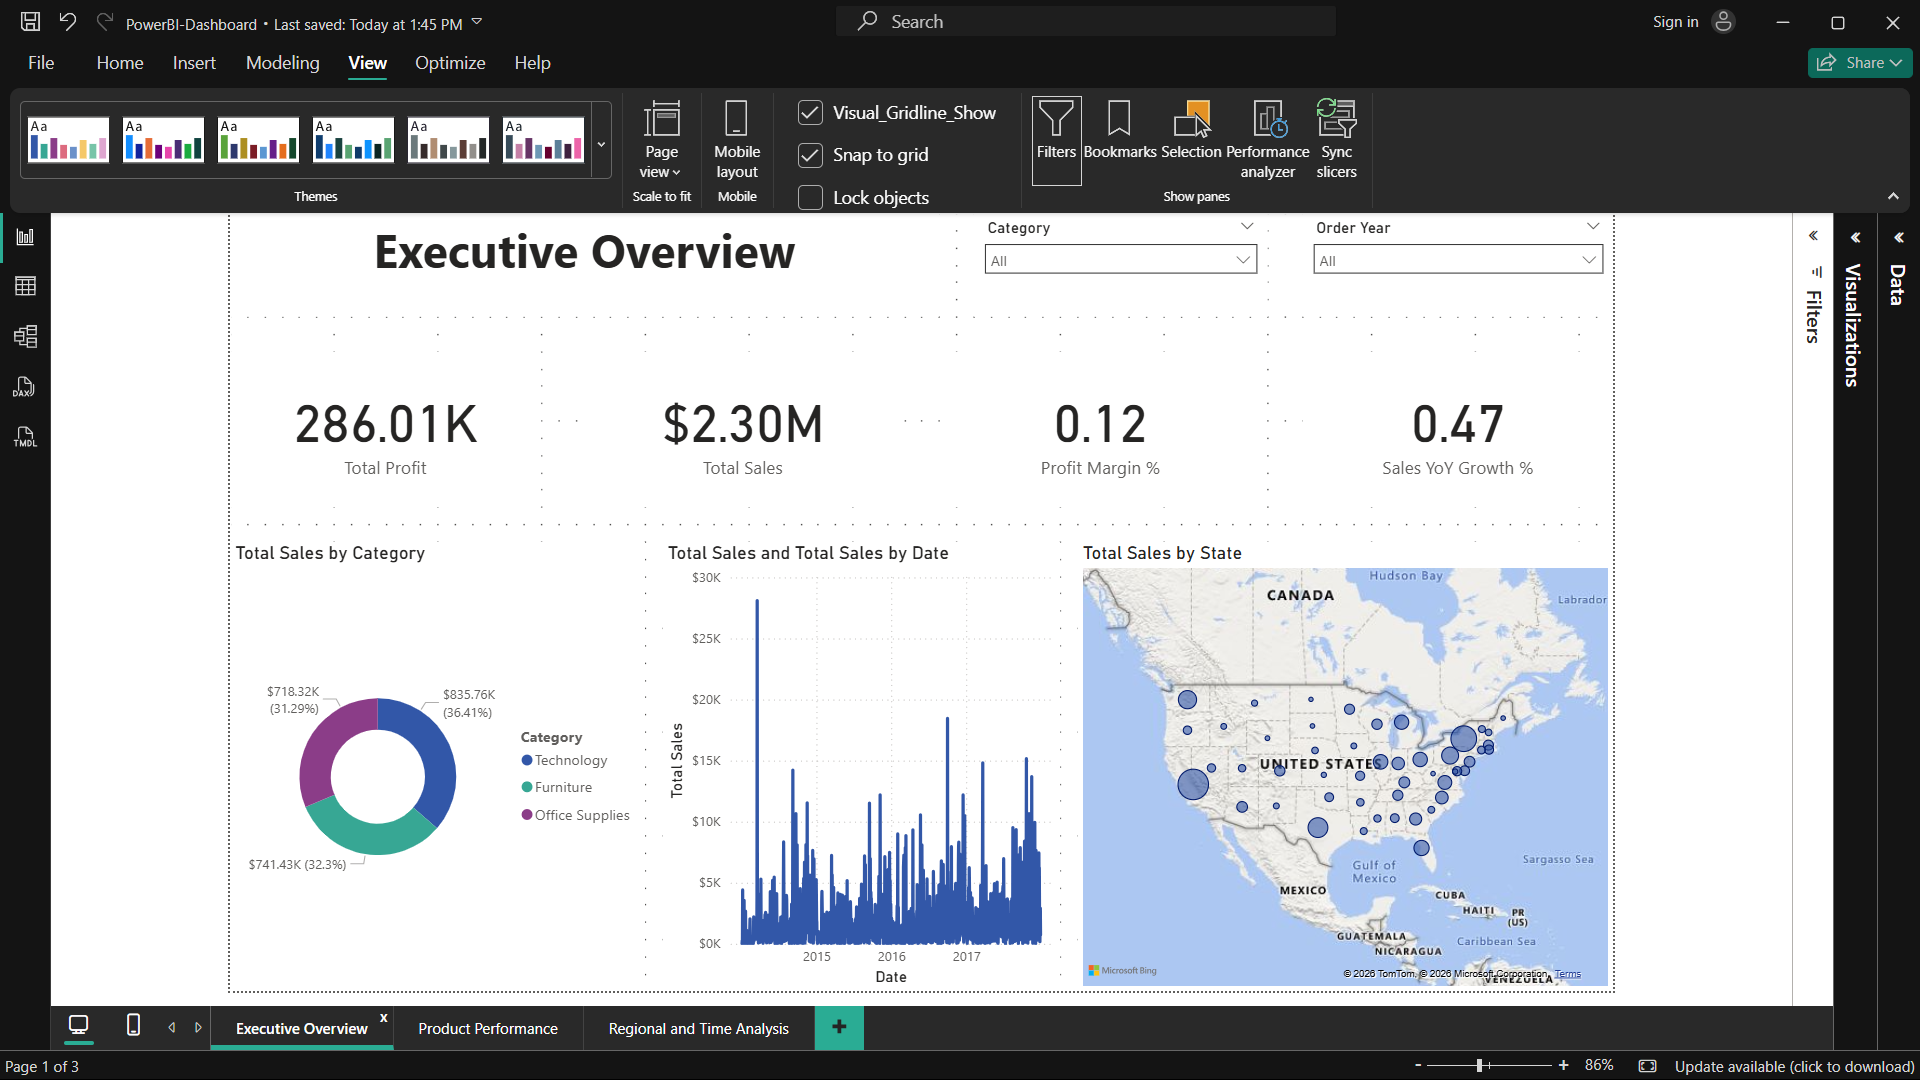

The dashboard page shown, as its layout file describes it:
{"tool":"powerbi","page":{"name":"Executive Overview","canvas":[1280,720],"ordinal":0},"visuals":[{"type":"lineChart","fields":{"Category":["DateTable.Date"],"Y":["DateTable.Total Sales"]},"box":[400,304,368,416],"z":0},{"type":"card","fields":{"Values":["DateTable.Total Profit"]},"box":[0,128,288,144],"z":1000},{"type":"card","fields":{"Values":["DateTable.Profit Margin %"]},"box":[661.3,128,288,144],"z":2000},{"type":"card","fields":{"Values":["DateTable.Sales YoY Growth %"]},"box":[992,128,288,144],"z":3000},{"type":"card","fields":{"Values":["DateTable.Total Sales"]},"box":[330.7,128,288,144],"z":4000},{"type":"map","fields":{"Size":["DateTable.Total Sales"],"Category":["sales.State"]},"box":[784,304,496,416],"z":5000},{"type":"donutChart","fields":{"Category":["sales.Category"],"Y":["DateTable.Total Sales"]},"box":[0,304,384,416],"z":6000},{"type":"slicer","fields":{"Values":["sales.Category"]},"box":[688,0,272,96],"z":7000},{"type":"slicer","fields":{"Values":["sales.Order Year"]},"box":[992,0,288,96],"z":8000},{"type":"textbox","box":[0,0,656,96],"z":9000}]}

Visuals, with their boxes on the page's 1280x720 design canvas (x1, y1, x2, y2). These are canvas units, not pixel positions in the 1920x1080 screenshot, which may show the page scaled, cropped or inside an application window:
lineChart - DateTable.Date x DateTable.Total Sales: <region>400, 304, 768, 720</region>
card - DateTable.Total Profit: <region>0, 128, 288, 272</region>
card - DateTable.Profit Margin %: <region>661, 128, 949, 272</region>
card - DateTable.Sales YoY Growth %: <region>992, 128, 1280, 272</region>
card - DateTable.Total Sales: <region>331, 128, 619, 272</region>
map - DateTable.Total Sales x sales.State: <region>784, 304, 1280, 720</region>
donutChart - sales.Category x DateTable.Total Sales: <region>0, 304, 384, 720</region>
slicer - sales.Category: <region>688, 0, 960, 96</region>
slicer - sales.Order Year: <region>992, 0, 1280, 96</region>
textbox: <region>0, 0, 656, 96</region>
